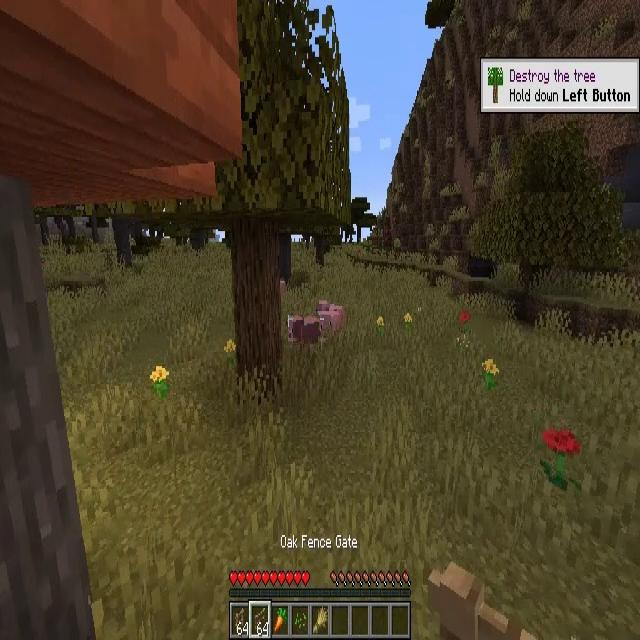pig: (319, 302, 343, 342), (288, 315, 320, 344)
